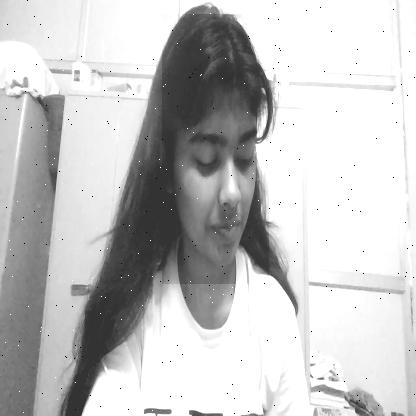Distracted: (162, 14, 269, 284)
